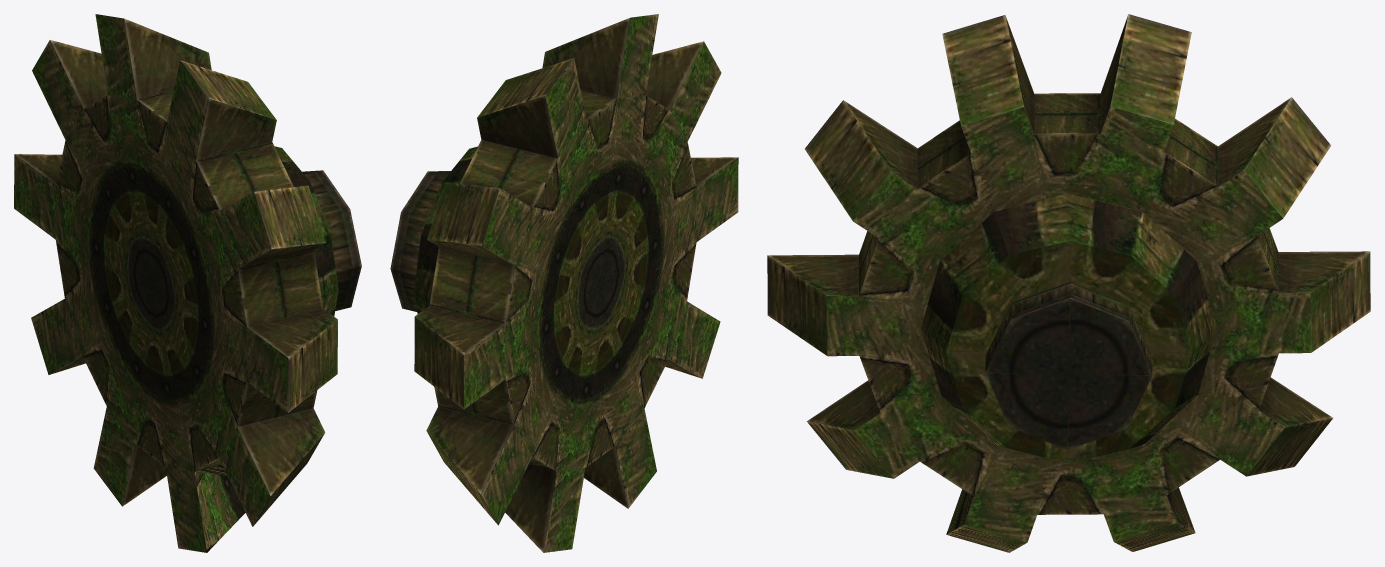
The model's file is side_gear.dae.
The picture shows the model from 3 angles, left to right: view 1: azimuth 30°, elevation 25°; view 2: azimuth 150°, elevation 25°; view 3: azimuth 270°, elevation 25°; orthographic projection. The views are drawn at different scales.
Parts seen in each view (by area): view 1: gia_01; view 2: gia_01; view 3: gia_01.
Boxes of the visible parts, bbox=[...] form: gia_01: bbox=[14, 14, 361, 552]; gia_01: bbox=[390, 14, 738, 552]; gia_01: bbox=[767, 14, 1370, 552].
Bounding box in the file's own units: 1.05 × 2.89 × 2.85.
Materials: 1 (1 with a texture image).
